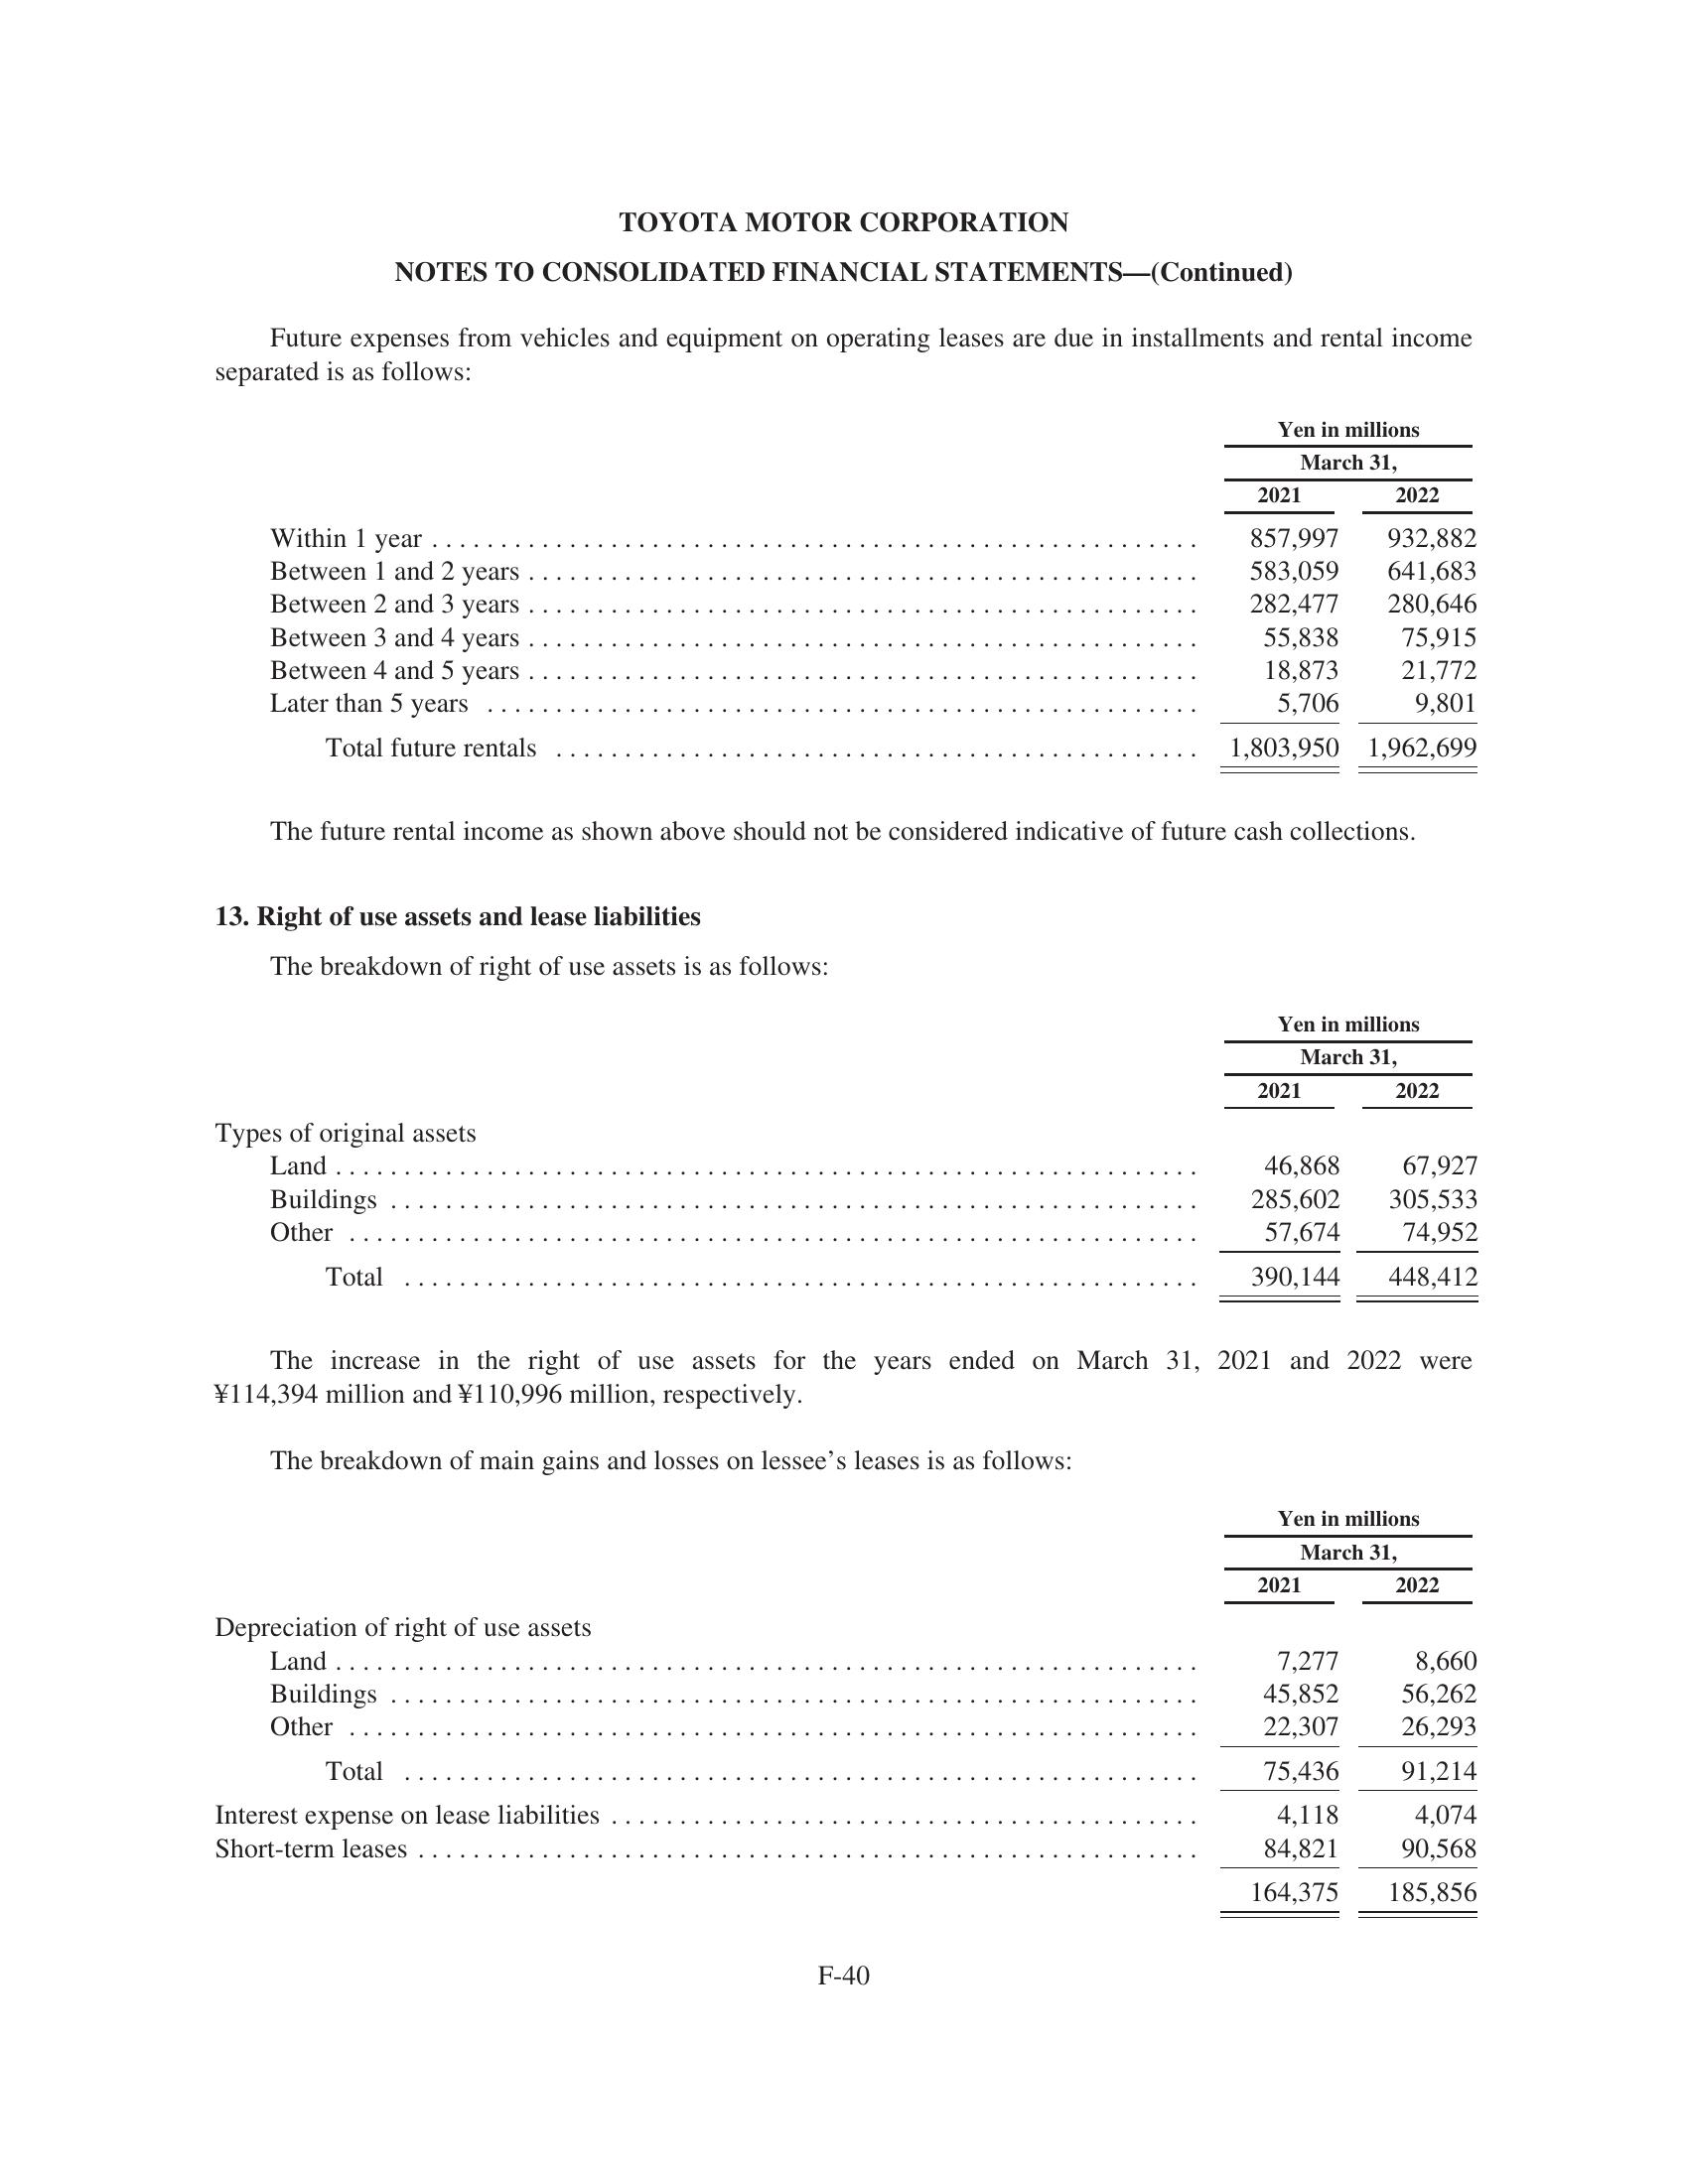Footer: (0, 1954, 1688, 2184)
Header: (0, 0, 1688, 188)
Table: (145, 1503, 1518, 1932), (209, 409, 1488, 796), (179, 991, 1518, 1315)
